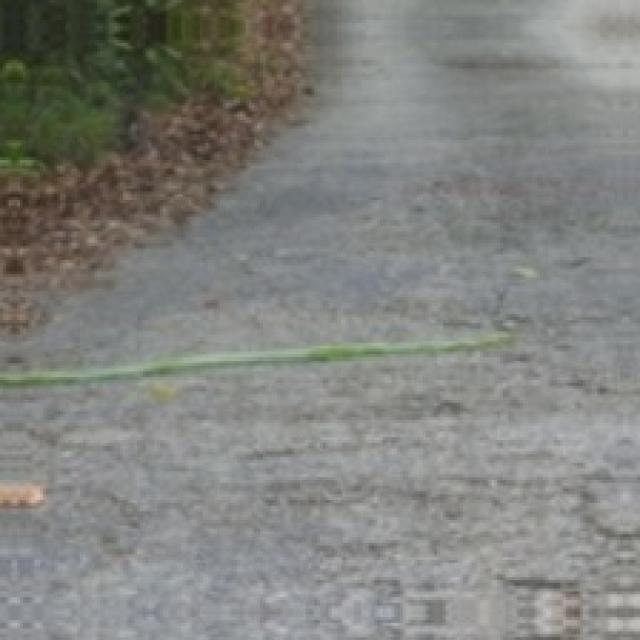red-tailed green ratsnake: (0, 331, 511, 383)
